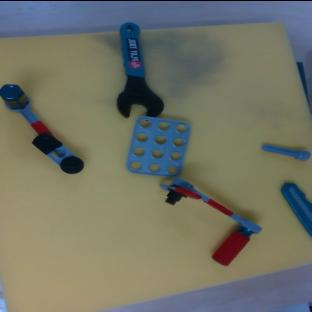non_pass: (0, 77, 87, 182)
pass: (144, 163, 263, 271)
